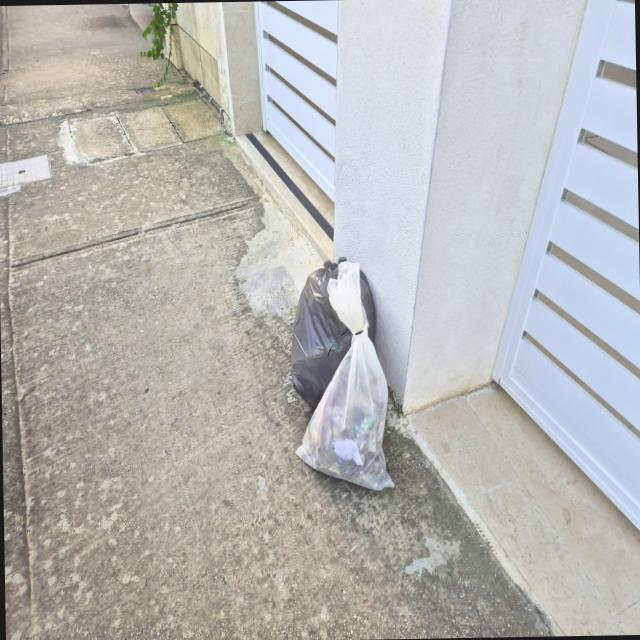black_bag: (282, 253, 393, 389)
white_bag: (303, 266, 409, 505)
